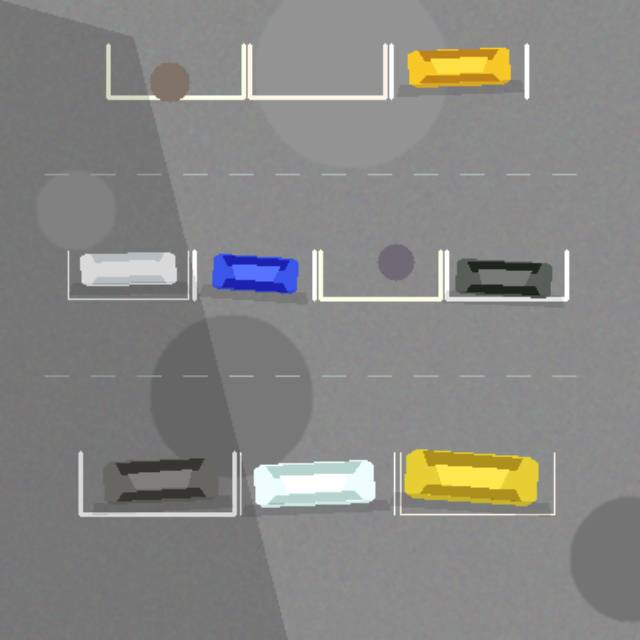space-empty: (249, 45, 385, 97), (108, 45, 243, 97), (320, 251, 440, 298)
space-occupied: (80, 452, 234, 514), (240, 452, 394, 514), (400, 452, 554, 514), (391, 45, 526, 97), (68, 251, 188, 298), (194, 251, 314, 298), (446, 251, 566, 298)
